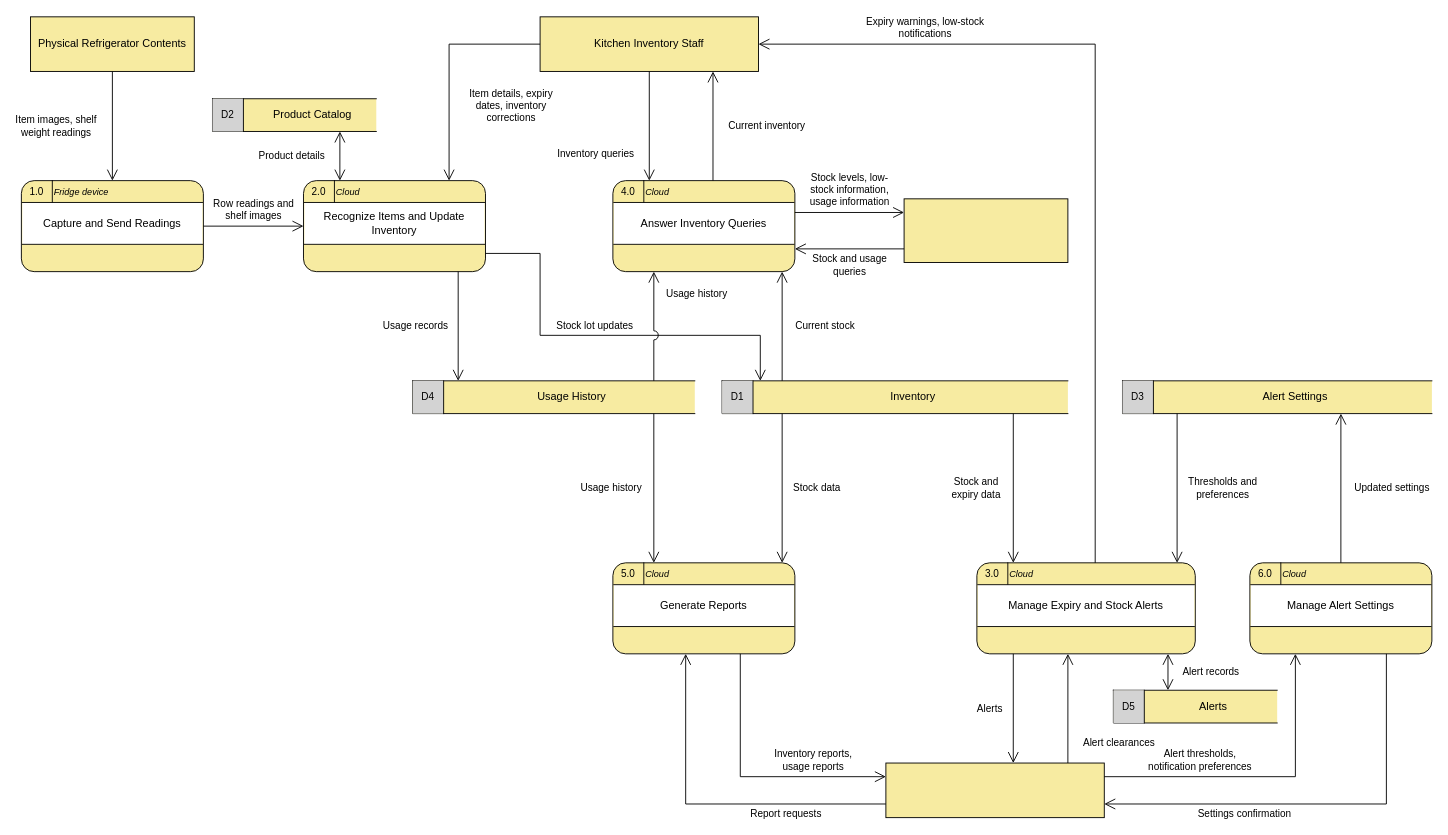
Image size: 1448x835. Some labels were removed from this diagram. Here are the shapes that lost their labels. From the top down, the centre of each, then its label:
At pixel 985 230: "Purchasing Staff".
At pixel 994 790: "Manager".
